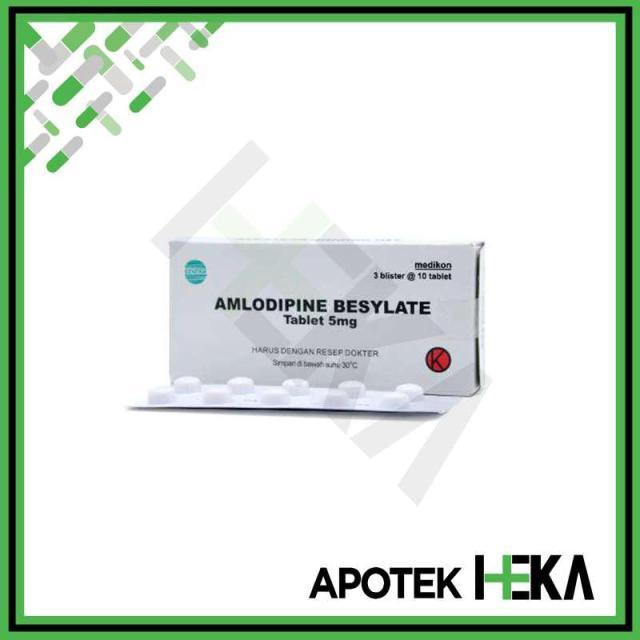drug-name: (213, 295, 329, 312)
